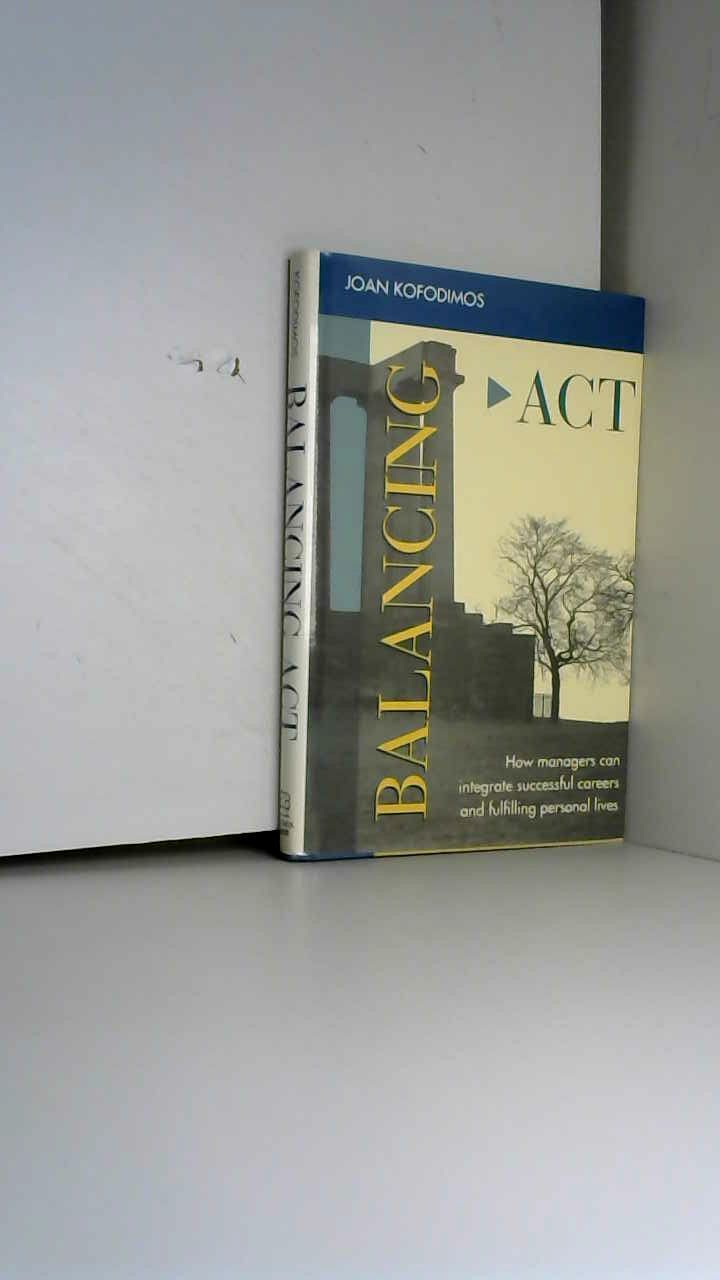book: (250, 220, 720, 888)
